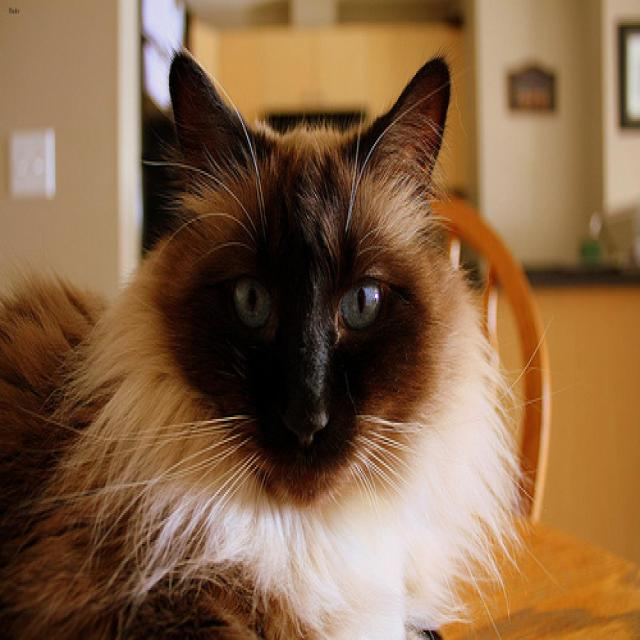cat: (164, 44, 449, 504)
